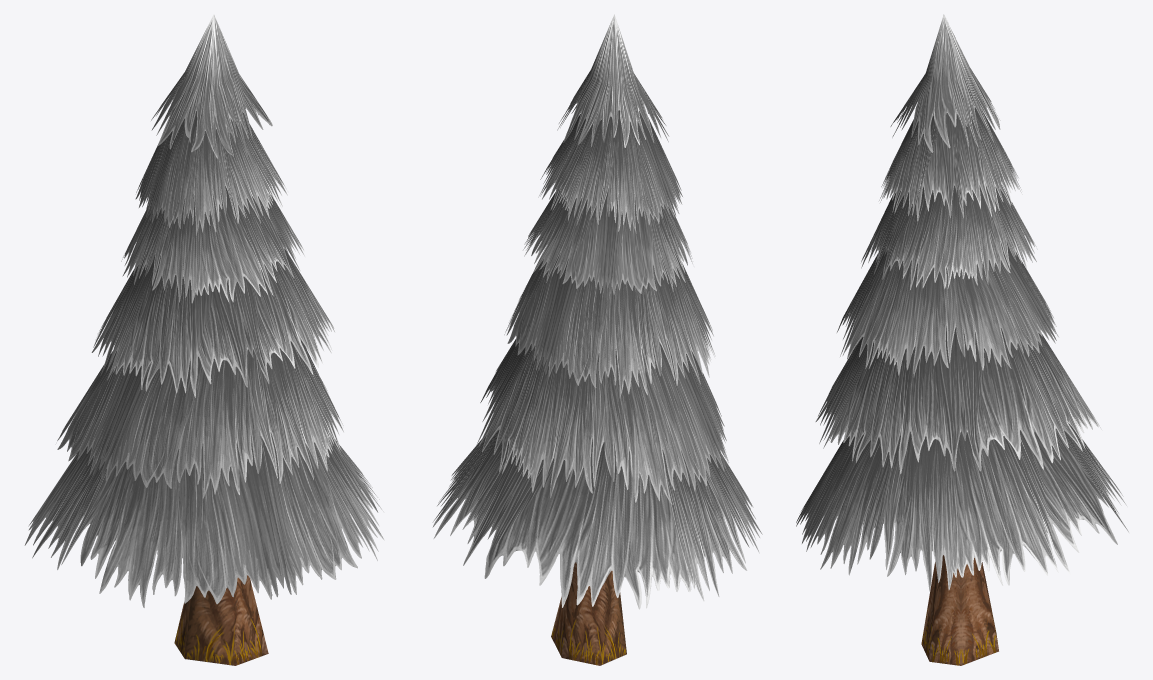
Rendered from Spruce.fbx.
The picture shows the model from 3 angles, left to right: view 1: azimuth 30°, elevation 25°; view 2: azimuth 150°, elevation 25°; view 3: azimuth 270°, elevation 25°; orthographic projection. The views are drawn at different scales.
Parts seen in each view (by area): view 1: Spruce; view 2: Spruce; view 3: Spruce.
Boxes of the visible parts, box(x1,y1,x2,y2) form: Spruce: box(24, 14, 384, 665); Spruce: box(432, 14, 762, 665); Spruce: box(796, 14, 1128, 665).
Size of the model in its own units: 9.27 by 17.64 by 8.86.
1 material, 1 textured.
